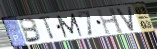7: (76, 10, 95, 38)
B: (18, 17, 43, 44)
H: (96, 7, 126, 36)
M: (55, 12, 84, 39)
T: (38, 15, 56, 41)
V: (115, 5, 136, 32)
